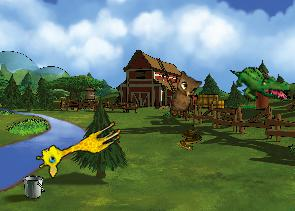crocodile: (230, 65, 291, 103)
giraffe: (32, 110, 125, 181)
owl: (169, 70, 203, 120)
